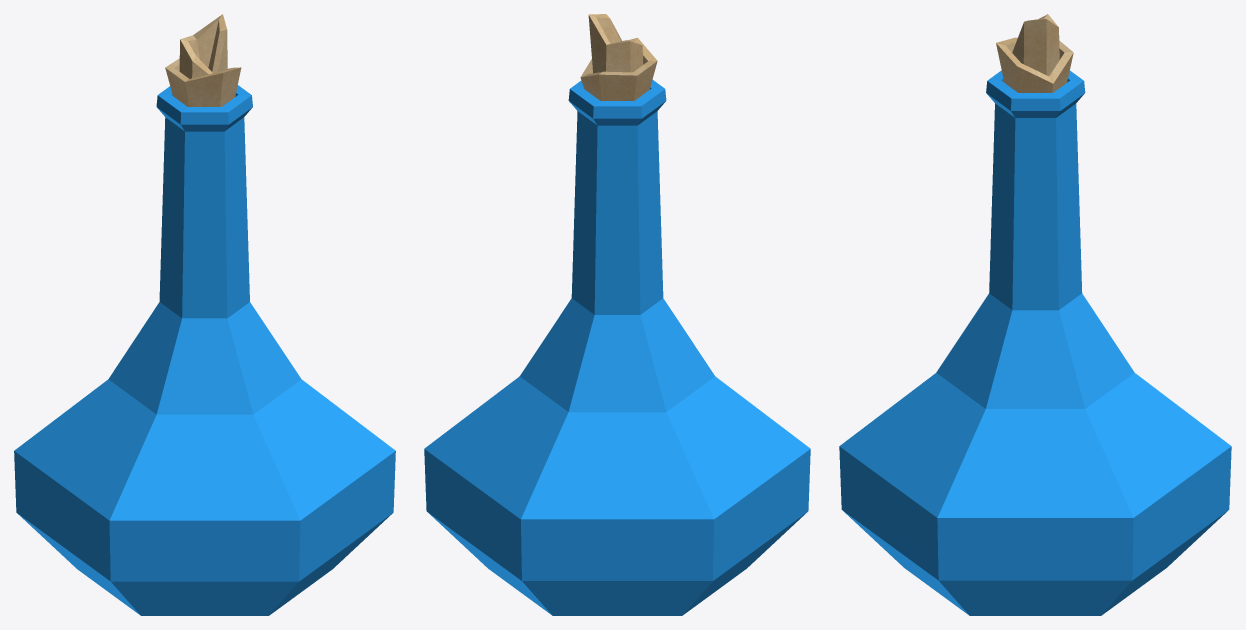
Rendered from Potion_03.fbx.
The picture shows the model from 3 angles, left to right: view 1: azimuth 30°, elevation 25°; view 2: azimuth 150°, elevation 25°; view 3: azimuth 270°, elevation 25°; orthographic projection. The views are drawn at different scales.
Parts seen in each view (by area): view 1: potion_03; view 2: potion_03; view 3: potion_03.
Boxes of the visible parts, x1,y1,x2,y2 form: potion_03: (14, 14, 395, 615); potion_03: (424, 14, 810, 615); potion_03: (839, 14, 1231, 615).
Size of the model in its own units: 210 by 383 by 243.
3 materials, 1 textured.
